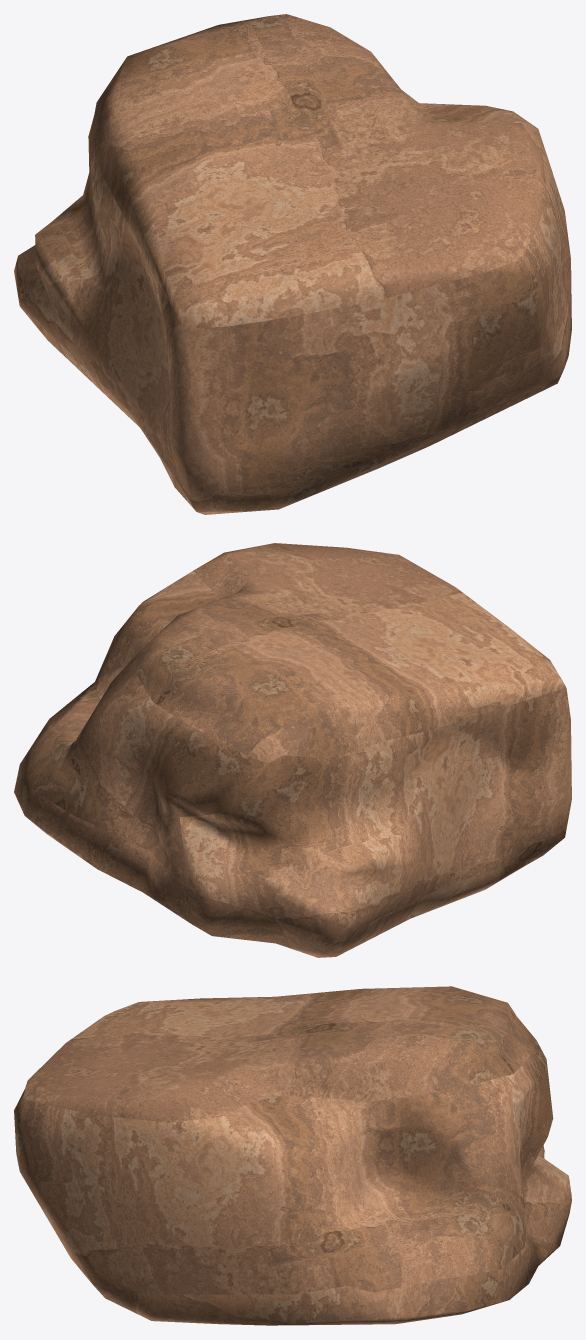
Rendered from Ob_Rock1_RC.fbx.
The picture shows the model from 3 angles, top to bottom: view 1: azimuth 30°, elevation 25°; view 2: azimuth 150°, elevation 25°; view 3: azimuth 270°, elevation 25°; orthographic projection. The views are drawn at different scales.
Visible parts, largest first — view 1: Ob_Rock1_RC; view 2: Ob_Rock1_RC; view 3: Ob_Rock1_RC.
Boxes of the visible parts, box(x1,y1,x2,y2) form: Ob_Rock1_RC: box(14, 14, 571, 514); Ob_Rock1_RC: box(14, 543, 571, 957); Ob_Rock1_RC: box(14, 986, 571, 1325).
Bounding box in the file's own units: 1166 × 739 × 1245.
